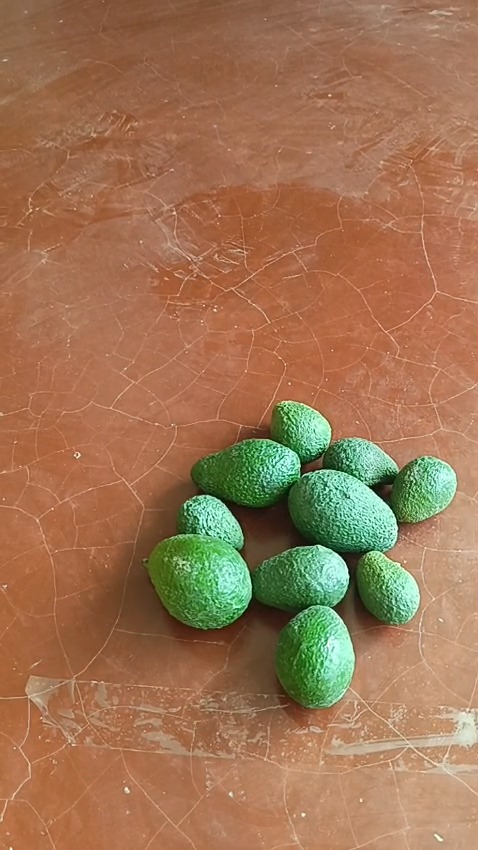Primera: (147, 533, 253, 630), (288, 470, 398, 554), (192, 439, 302, 508)
Segunda: (273, 604, 356, 706)
Tercera: (251, 544, 350, 612), (354, 549, 419, 624), (388, 455, 457, 523), (269, 400, 332, 464), (320, 437, 399, 488), (177, 494, 245, 551)
